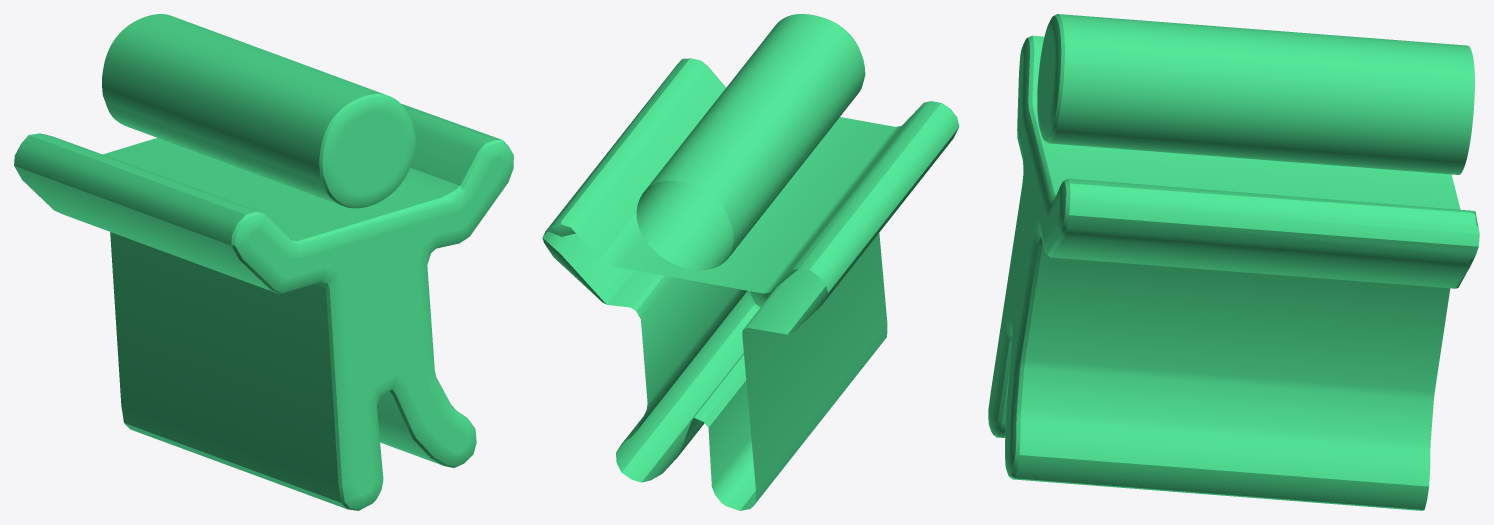
File: chuvachok.glb
The picture shows the model from 3 angles, left to right: view 1: azimuth 30°, elevation 25°; view 2: azimuth 150°, elevation 25°; view 3: azimuth 270°, elevation 25°; orthographic projection. The views are drawn at different scales.
Visible parts, largest first — view 1: NurbsPath.002; view 2: NurbsPath.002; view 3: NurbsPath.002.
Part boxes in pixels (box(x1,y1,x2,y2)): NurbsPath.002: box(14, 14, 513, 510); NurbsPath.002: box(542, 14, 959, 510); NurbsPath.002: box(988, 14, 1479, 510).
Size of the model in its own units: 0.704 by 0.8571 by 0.7935.
